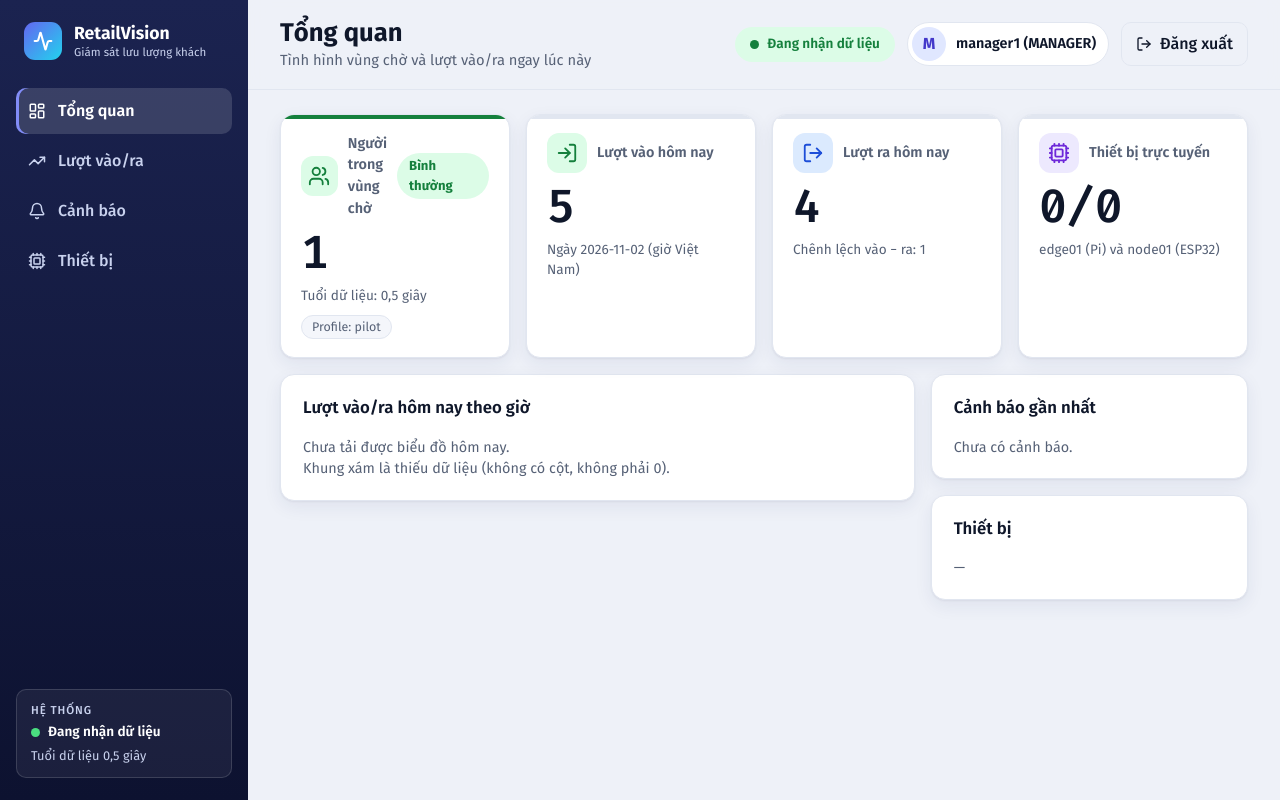
Test: đăng nhập và phân quyền trên web › đăng xuất: gọi logout với CSRF, xóa dữ liệu và về trang đăng nhập
Expected: the text "manager1 (MANAGER)" is shown, [956,36,1096,53]
Click the button "Đăng xuất".
click(1185, 44)  # box [1121,22,1248,66]
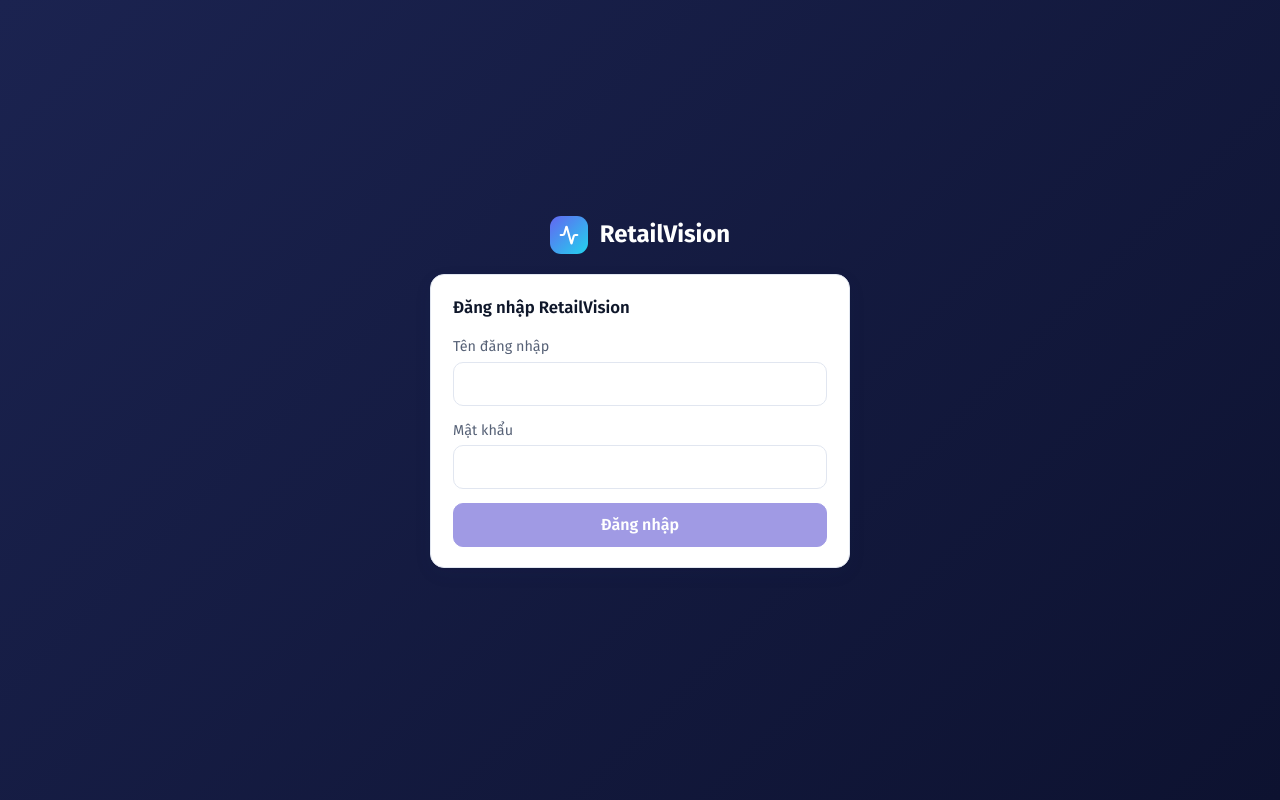
Now the heading "Đăng nhập RetailVision" is shown, box [453,295,630,320]
Now the link "manager1 (MANAGER)" is gone
